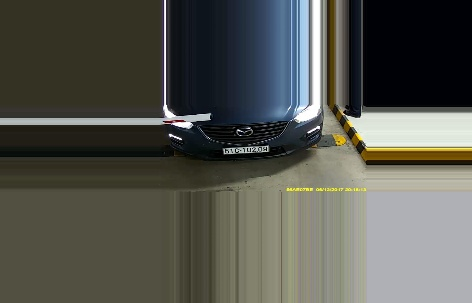plate: (222, 141, 271, 156)
